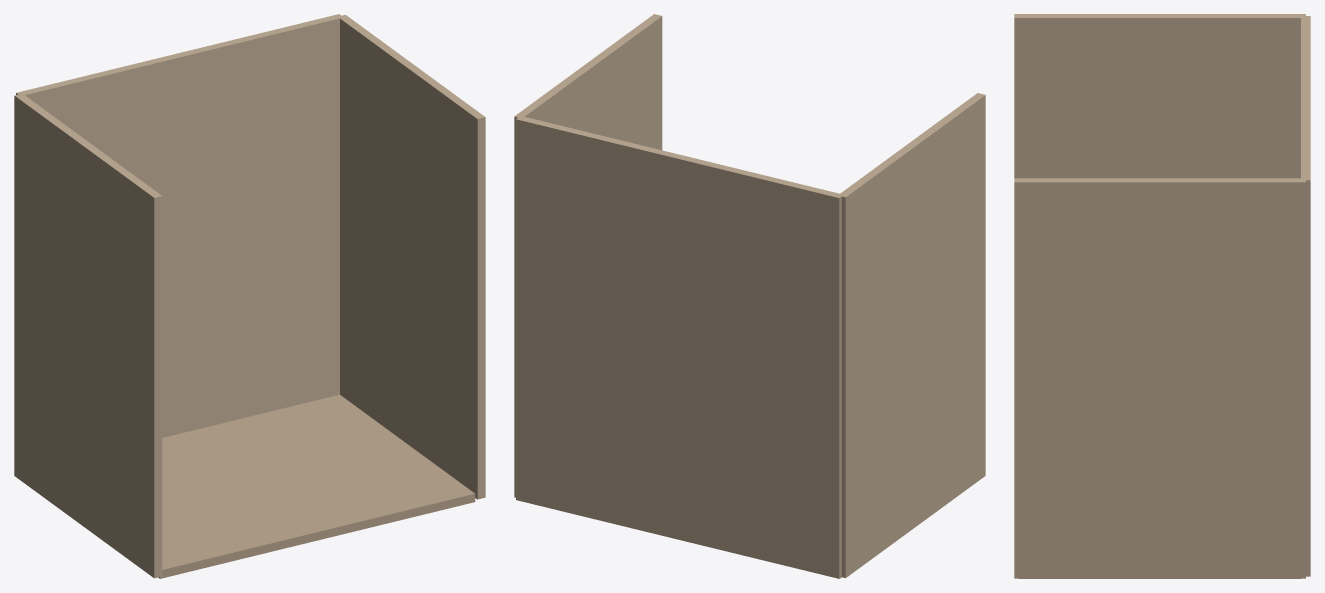
File: cabina.glb
3 views of the same model, side by side, from view 1: azimuth 30°, elevation 25°; view 2: azimuth 150°, elevation 25°; view 3: azimuth 270°, elevation 25° (orthographic). The views are drawn at different scales.
Visible parts, largest first — view 1: back_panel, left_panel, right_panel, shelf; view 2: back_panel, left_panel, right_panel; view 3: right_panel, left_panel, back_panel.
Boxes of the visible parts, x1,y1,x2,y2 form: back_panel: (16, 14, 343, 437); left_panel: (14, 94, 162, 578); right_panel: (338, 15, 485, 499); shelf: (158, 394, 475, 578); back_panel: (516, 116, 843, 578); left_panel: (838, 93, 985, 578); right_panel: (514, 14, 662, 497); right_panel: (1014, 178, 1305, 578); left_panel: (1014, 14, 1305, 178); back_panel: (1301, 16, 1310, 576).
Bounding box in the file's own units: 0.82 × 0.91 × 0.61.
